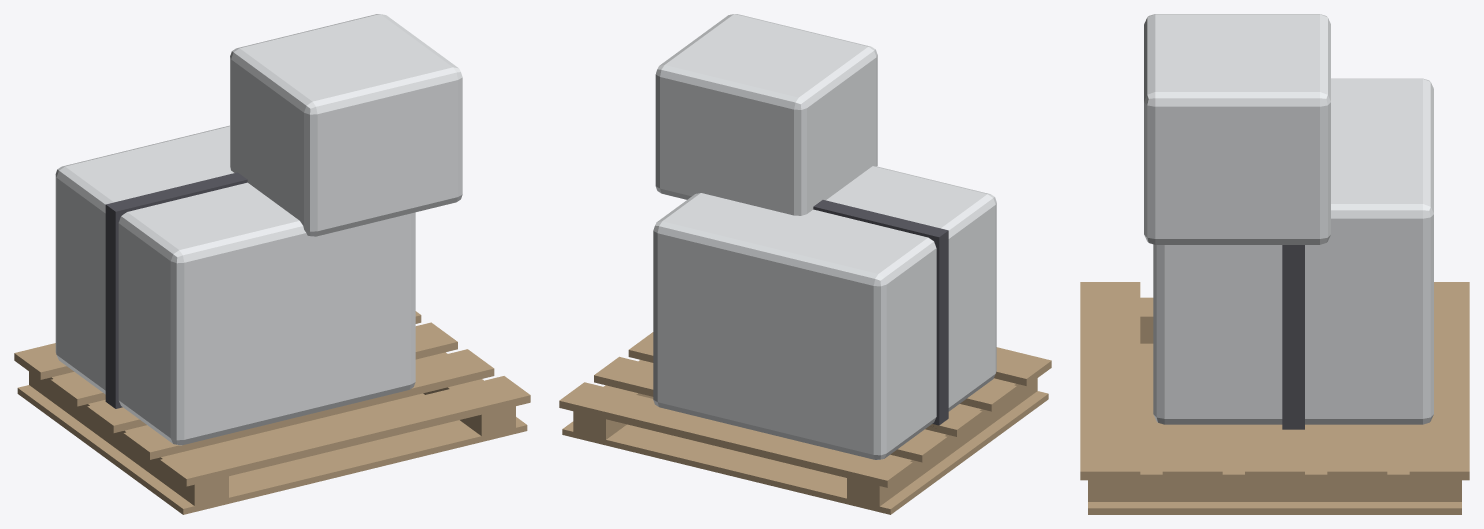
Rendered from bt-d2-pallet.glb.
3 views of the same model, side by side, from view 1: azimuth 30°, elevation 25°; view 2: azimuth 150°, elevation 25°; view 3: azimuth 270°, elevation 25° (orthographic). The views are drawn at different scales.
Parts seen in each view (by area): view 1: bt-d2-pallet_crate1, bt-d2-pallet_crate2, bt-d2-pallet_slat4, bt-d2-pallet_bot, bt-d2-pallet_slat3, bt-d2-pallet_strap, bt-d2-pallet_str-1, bt-d2-pallet_slat2, bt-d2-pallet_str1, bt-d2-pallet_slat0, bt-d2-pallet_slat1; view 2: bt-d2-pallet_crate1, bt-d2-pallet_crate2, bt-d2-pallet_bot, bt-d2-pallet_slat0, bt-d2-pallet_strap, bt-d2-pallet_str-1, bt-d2-pallet_slat1, bt-d2-pallet_slat4, bt-d2-pallet_slat2, bt-d2-pallet_str1, bt-d2-pallet_slat3; view 3: bt-d2-pallet_crate1, bt-d2-pallet_crate2, bt-d2-pallet_slat4, bt-d2-pallet_str1, bt-d2-pallet_bot, bt-d2-pallet_slat0, bt-d2-pallet_strap, bt-d2-pallet_slat3, bt-d2-pallet_slat1, bt-d2-pallet_slat2, bt-d2-pallet_str-1.
Part boxes in pixels (x1,y1,x2,y2): bt-d2-pallet_crate1: [55, 125, 415, 445]; bt-d2-pallet_crate2: [230, 14, 462, 236]; bt-d2-pallet_slat4: [160, 376, 530, 486]; bt-d2-pallet_bot: [17, 385, 527, 514]; bt-d2-pallet_slat3: [123, 349, 494, 459]; bt-d2-pallet_strap: [105, 172, 247, 408]; bt-d2-pallet_str-1: [29, 371, 228, 508]; bt-d2-pallet_slat2: [87, 322, 457, 433]; bt-d2-pallet_str1: [415, 352, 515, 437]; bt-d2-pallet_slat0: [14, 343, 73, 379]; bt-d2-pallet_slat1: [50, 311, 421, 406]; bt-d2-pallet_crate1: [653, 166, 996, 459]; bt-d2-pallet_crate2: [655, 14, 877, 215]; bt-d2-pallet_bot: [562, 391, 1048, 514]; bt-d2-pallet_slat0: [559, 382, 912, 487]; bt-d2-pallet_strap: [813, 200, 948, 426]; bt-d2-pallet_str-1: [847, 378, 1037, 508]; bt-d2-pallet_slat1: [594, 356, 947, 462]; bt-d2-pallet_slat4: [994, 347, 1051, 385]; bt-d2-pallet_slat2: [628, 332, 982, 436]; bt-d2-pallet_str1: [573, 360, 653, 439]; bt-d2-pallet_slat3: [960, 380, 1016, 411]; bt-d2-pallet_crate1: [1153, 78, 1433, 424]; bt-d2-pallet_crate2: [1144, 14, 1330, 244]; bt-d2-pallet_slat4: [1080, 282, 1140, 480]; bt-d2-pallet_str1: [1088, 455, 1461, 501]; bt-d2-pallet_bot: [1088, 343, 1461, 514]; bt-d2-pallet_slat0: [1409, 282, 1469, 480]; bt-d2-pallet_strap: [1282, 245, 1304, 429]; bt-d2-pallet_slat3: [1162, 424, 1222, 480]; bt-d2-pallet_slat1: [1327, 424, 1387, 480]; bt-d2-pallet_slat2: [1245, 424, 1304, 480]; bt-d2-pallet_str-1: [1140, 297, 1153, 343].
Bounding box in the file's own units: 1.2 × 1.17 × 1.04.
